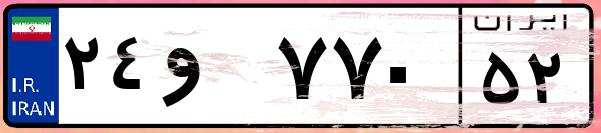0: (385, 28, 445, 110)
2: (57, 26, 110, 100), (525, 38, 570, 115)
4: (110, 28, 158, 98)
5: (475, 38, 525, 113)
7: (270, 28, 330, 110), (330, 28, 385, 110)
و: (158, 20, 270, 120)
